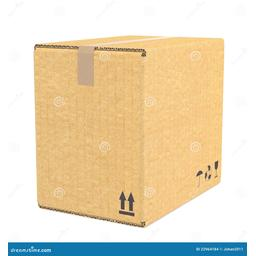cardboard: (16, 22, 253, 236)
